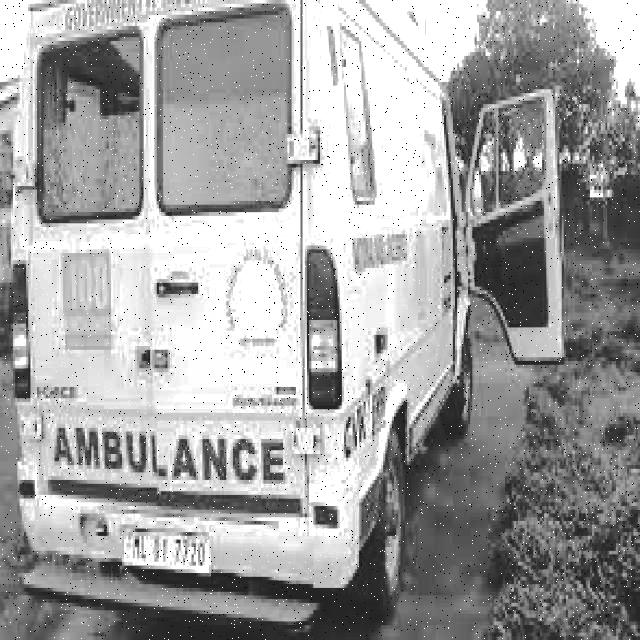LCV: (11, 3, 353, 585)
